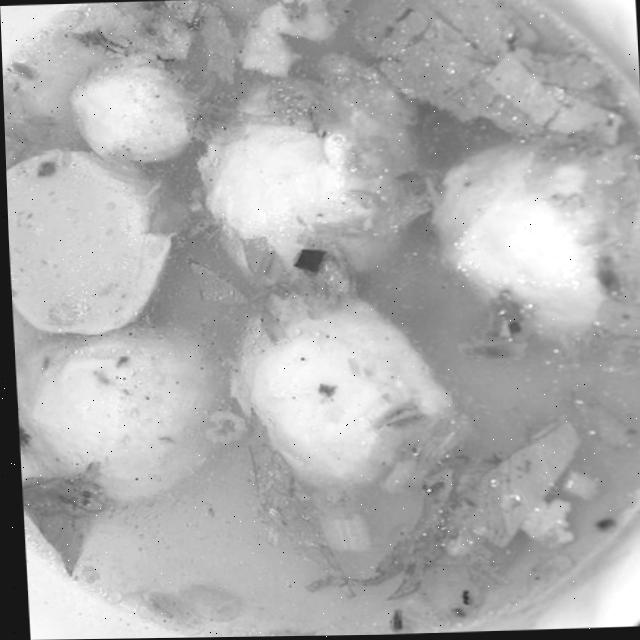熟制海鲜: (1, 35, 623, 513)
